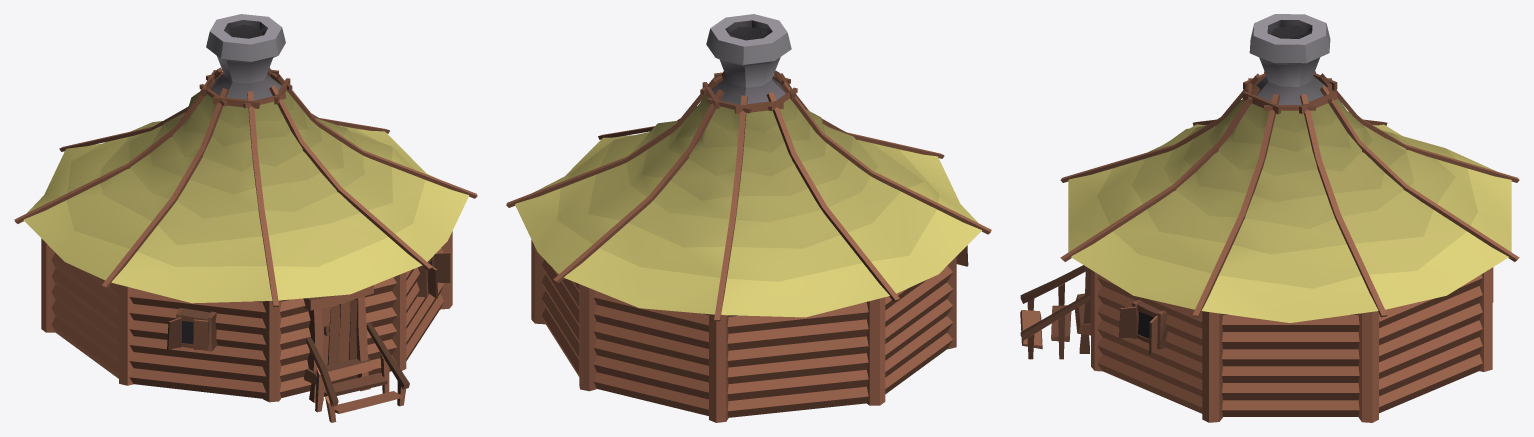
The model's file is House_3.fbx.
3 views of the same model, side by side, from view 1: azimuth 30°, elevation 25°; view 2: azimuth 150°, elevation 25°; view 3: azimuth 270°, elevation 25° (orthographic). The views are drawn at different scales.
Parts seen in each view (by area): view 1: House_3; view 2: House_3; view 3: House_3.
Part boxes in pixels (box(x1,y1,x2,y2)): House_3: box(14, 14, 477, 422); House_3: box(506, 14, 991, 422); House_3: box(1020, 14, 1519, 422).
Size of the model in its own units: 0.1294 by 0.097 by 0.1407.
